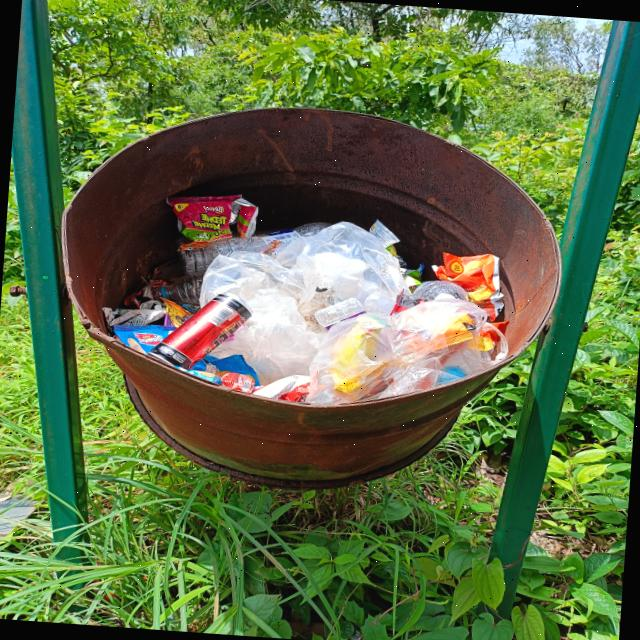garbage: (81, 172, 518, 429)
